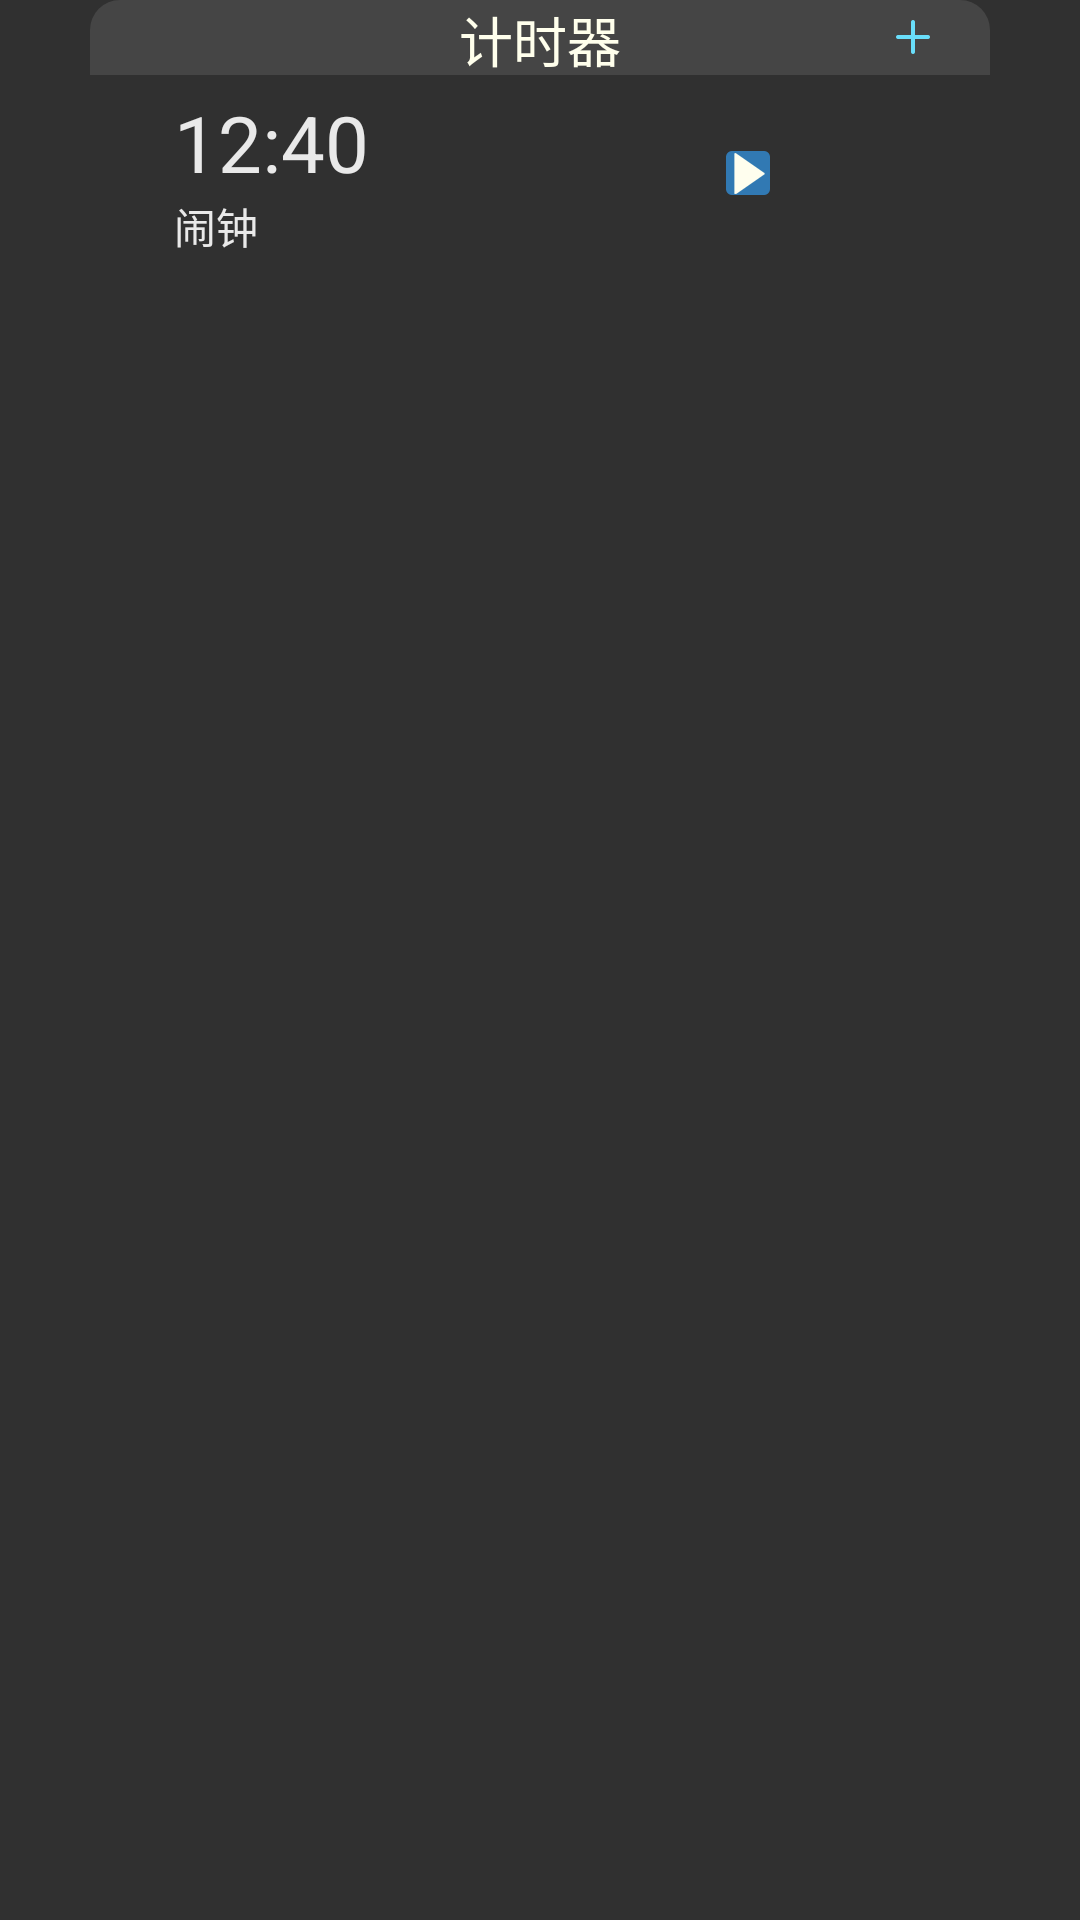

Named icons in this screenshot (1080x1920) and their bounding boxes, box(x1, y1, x2, y2):
clock center add: box(896, 20, 930, 54)
toggle timer on off: box(726, 151, 770, 195)
